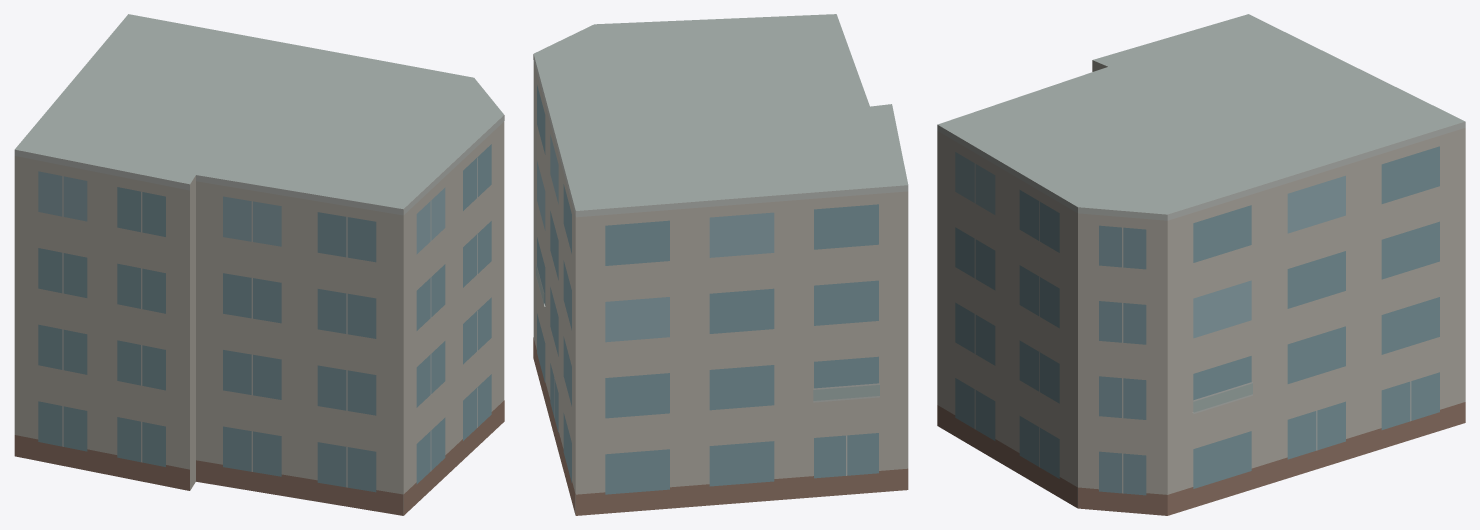
Rendered from survey-upis-33018158.glb.
3 renders of one model, left to right at view 1: azimuth 30°, elevation 25°; view 2: azimuth 150°, elevation 25°; view 3: azimuth 270°, elevation 25°, orthographic.
Visible parts, largest first — view 1: survey-upis-33018158.tmp; view 2: survey-upis-33018158.tmp; view 3: survey-upis-33018158.tmp.
Part boxes in pixels (x1=…): survey-upis-33018158.tmp: x1=14, y1=14, x2=504, y2=515; survey-upis-33018158.tmp: x1=533, y1=14, x2=908, y2=515; survey-upis-33018158.tmp: x1=937, y1=14, x2=1465, y2=515.
Bounding box in the file's own units: 17 × 11.9 × 18.92.
